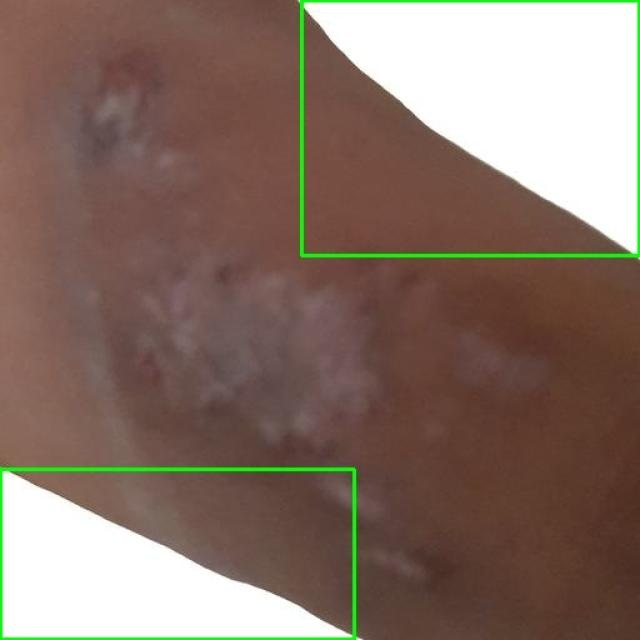Eczema: (301, 0, 639, 255), (0, 469, 354, 639)
